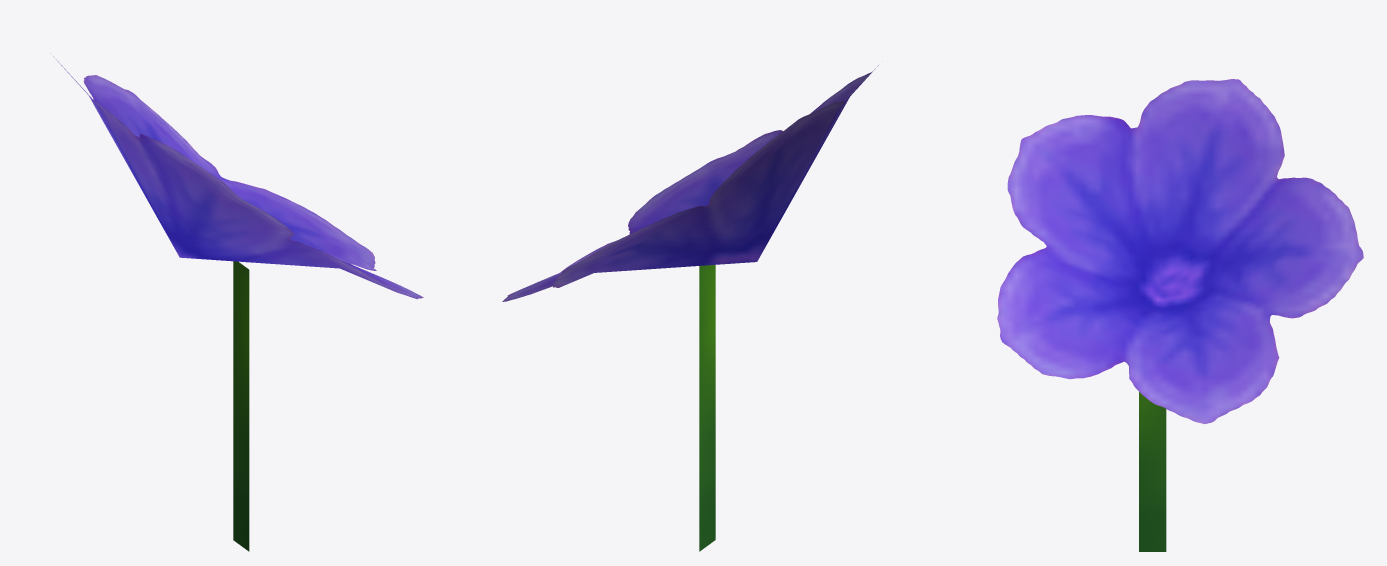
File: flower_05.FBX
The picture shows the model from 3 angles, left to right: view 1: azimuth 30°, elevation 25°; view 2: azimuth 150°, elevation 25°; view 3: azimuth 270°, elevation 25°; orthographic projection. The views are drawn at different scales.
Parts seen in each view (by area): view 1: Plane021; view 2: Plane021; view 3: Plane021.
Boxes of the visible parts, left/top/right/bottom form: Plane021: left=50, top=53, right=423, bottom=551; Plane021: left=502, top=65, right=878, bottom=551; Plane021: left=997, top=79, right=1363, bottom=551.
Bounding box in the file's own units: 0.4087 × 0.5592 × 0.462.
